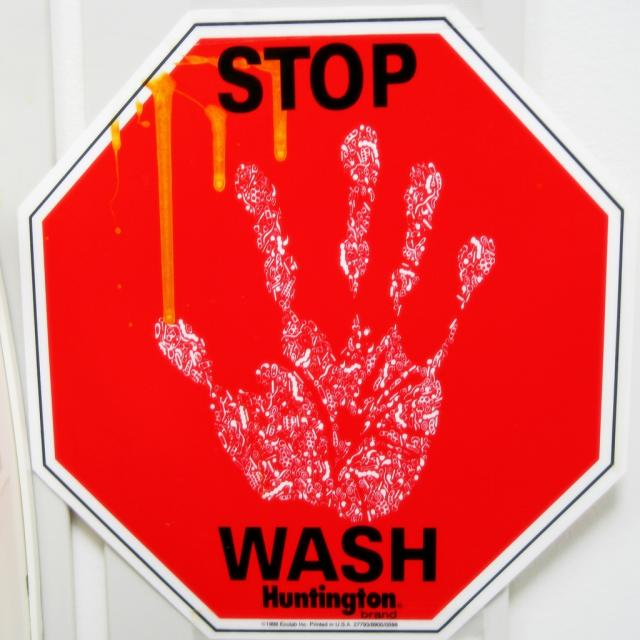Stop-sign: (13, 4, 632, 640)
